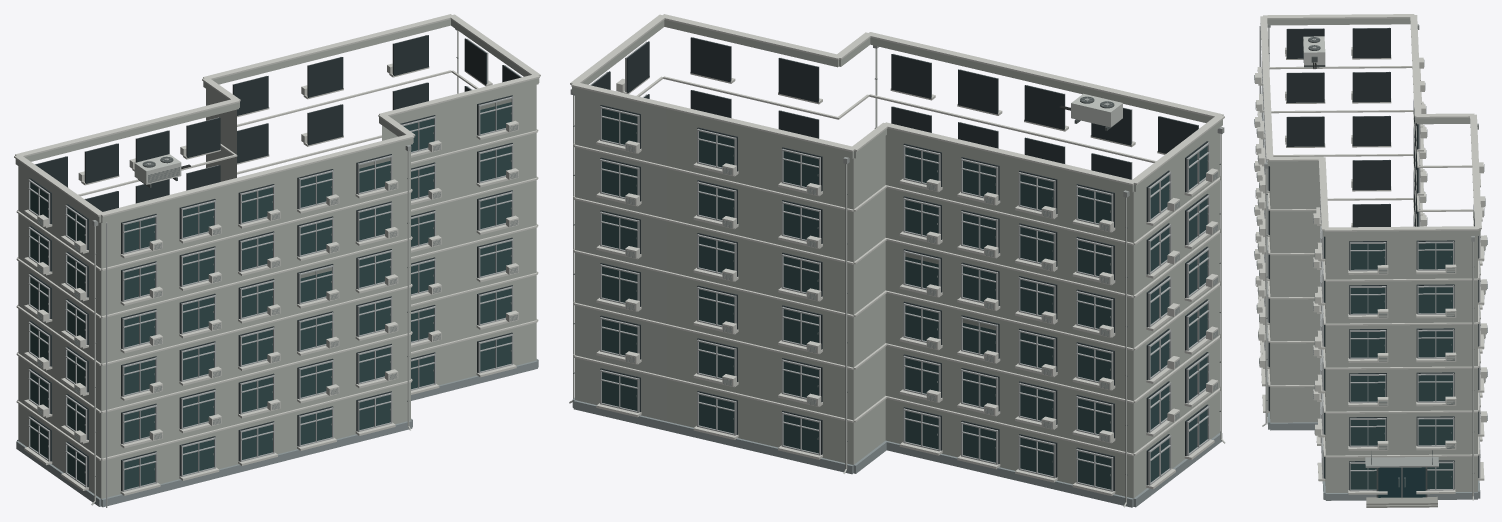
The model's file is osm_way_223859787.glb.
3 renders of one model, left to right at view 1: azimuth 30°, elevation 25°; view 2: azimuth 150°, elevation 25°; view 3: azimuth 270°, elevation 25°, orthographic. The views are drawn at different scales.
Parts seen in each view (by area): view 1: Architecture | 10, Windows and facade details | 10, Roof services | 10, EXTERIOR::osm_way_223859787::rainwater and roof service deta; view 2: Architecture | 10, Windows and facade details | 10, Roof services | 10, EXTERIOR::osm_way_223859787::rainwater and roof service deta; view 3: Architecture | 10, Windows and facade details | 10, Roof services | 10, EXTERIOR::osm_way_223859787::inferred entry doors canopy and, EXTERIOR::osm_way_223859787::rainwater and roof service deta.
Part boxes in pixels (x1=…): Architecture | 10: x1=15, y1=19, x2=539, y2=507; Windows and facade details | 10: x1=24, y1=35, x2=521, y2=507; Roof services | 10: x1=14, y1=14, x2=540, y2=216; EXTERIOR::osm_way_223859787::rainwater and roof service deta: x1=91, y1=28, x2=458, y2=505; Architecture | 10: x1=572, y1=20, x2=1222, y2=507; Windows and facade details | 10: x1=590, y1=37, x2=1218, y2=495; Roof services | 10: x1=570, y1=14, x2=1224, y2=185; EXTERIOR::osm_way_223859787::rainwater and roof service deta: x1=569, y1=45, x2=1225, y2=507; Architecture | 10: x1=1267, y1=18, x2=1480, y2=500; Windows and facade details | 10: x1=1254, y1=25, x2=1487, y2=494; Roof services | 10: x1=1260, y1=14, x2=1481, y2=231; EXTERIOR::osm_way_223859787::inferred entry doors canopy and: x1=1365, y1=450, x2=1438, y2=507; EXTERIOR::osm_way_223859787::rainwater and roof service deta: x1=1262, y1=24, x2=1478, y2=500.
Bounding box in the file's own units: 35.24 × 20.58 × 15.37.
